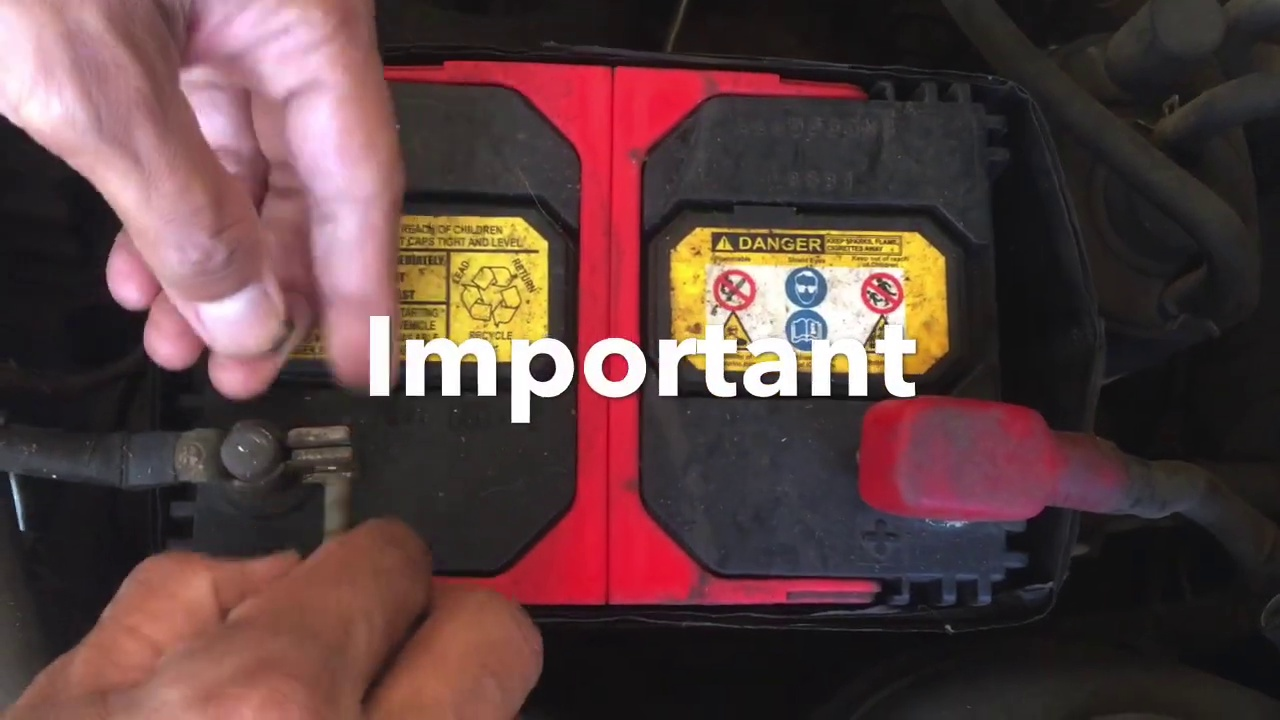battery: (151, 64, 1022, 610)
neg_connected: (109, 401, 360, 514)
neg_touched: (117, 170, 395, 633)
pos_connected: (819, 380, 1148, 538)
